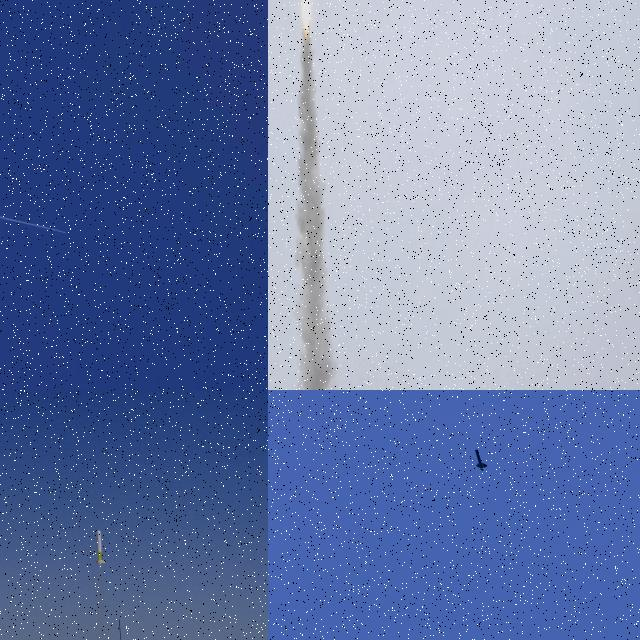Rocket: (94, 530, 107, 566), (473, 448, 489, 472), (64, 232, 66, 234)
